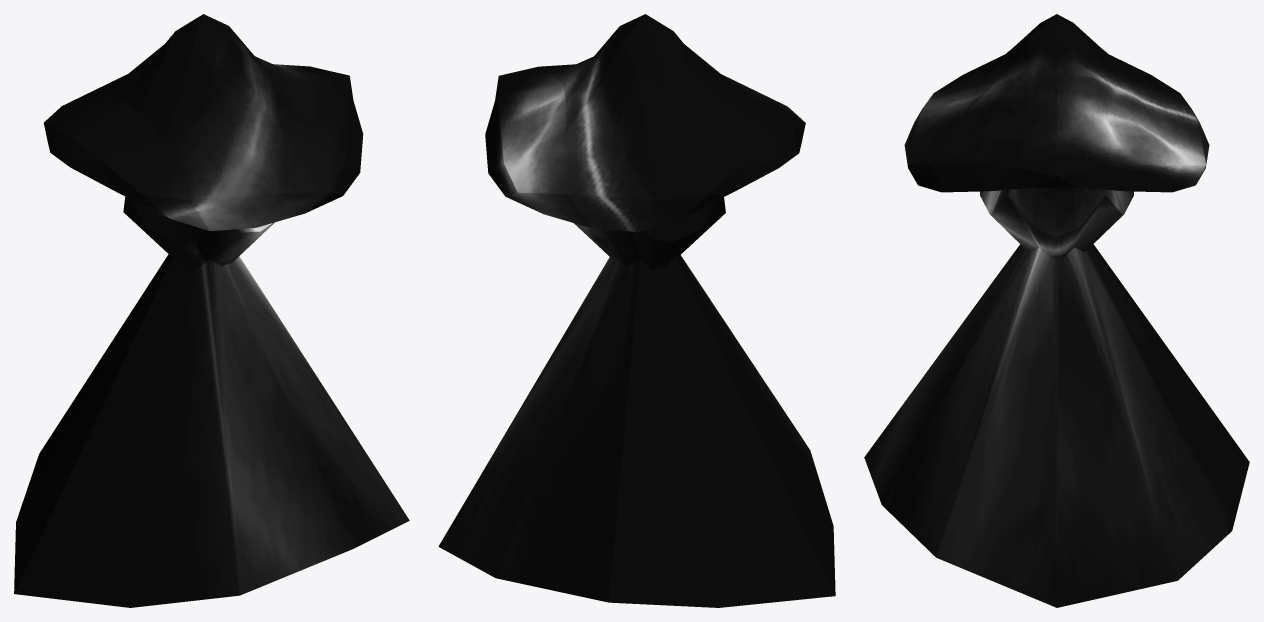
3 renders of one model, left to right at view 1: azimuth 30°, elevation 25°; view 2: azimuth 150°, elevation 25°; view 3: azimuth 270°, elevation 25°, orthographic. The views are drawn at different scales.
Size of the model in its own units: 1.55 by 2.2 by 1.5.
Materials: 1 (1 with a texture image).
